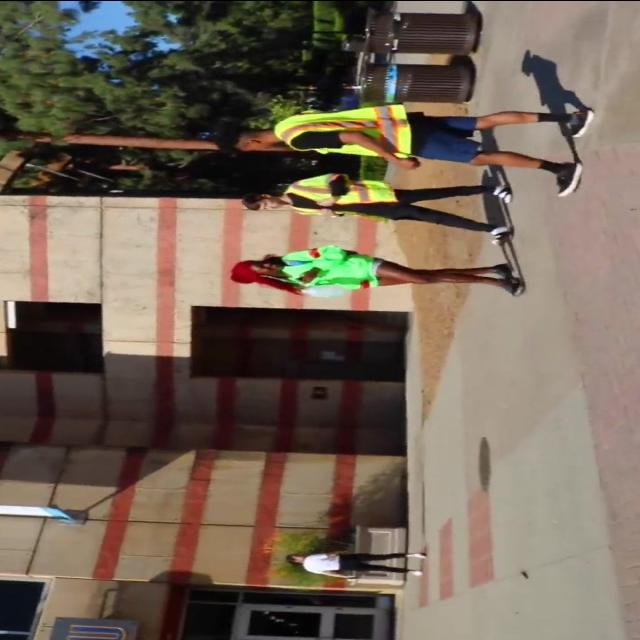jacket: (271, 96, 415, 157), (280, 172, 402, 226)
